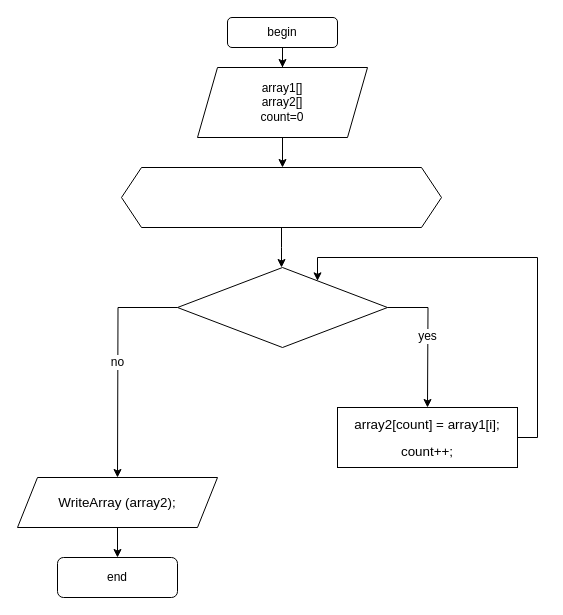
Some shapes in this 563 by 615 pixel diagram are drawn without their labels. Here are the shapes that lost their labels. From the top down, the centre of each, then its label:
At point 281,197: "for ( int i = 0 ; i < array1 . Length ; i ++ )".
At point 282,307: "if(array1[i].Length <= 3)".
